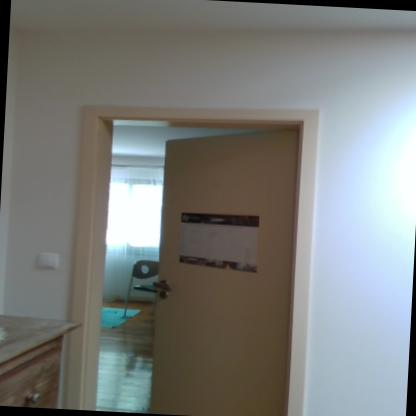semi: (62, 95, 339, 416)
